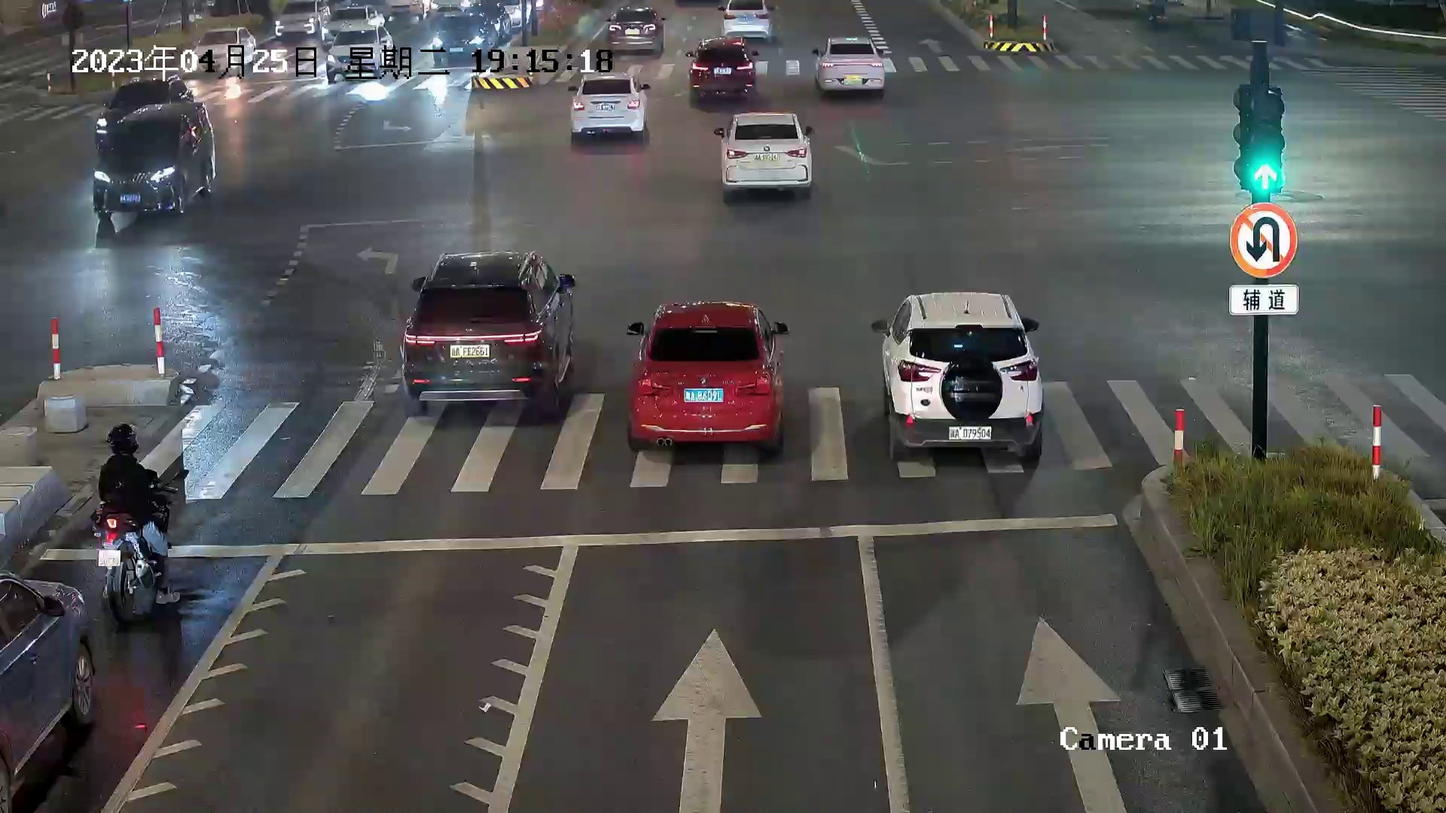person: (101, 419, 170, 607)
vehicle: (394, 246, 578, 423), (866, 286, 1052, 461), (624, 297, 792, 460), (90, 99, 218, 223), (90, 470, 203, 603), (1, 562, 94, 690), (711, 109, 819, 199), (560, 69, 650, 146), (810, 32, 886, 92), (685, 32, 750, 101), (319, 26, 392, 78), (429, 11, 502, 63), (193, 26, 258, 68), (607, 5, 662, 51), (716, 1, 779, 40), (275, 3, 323, 37)
